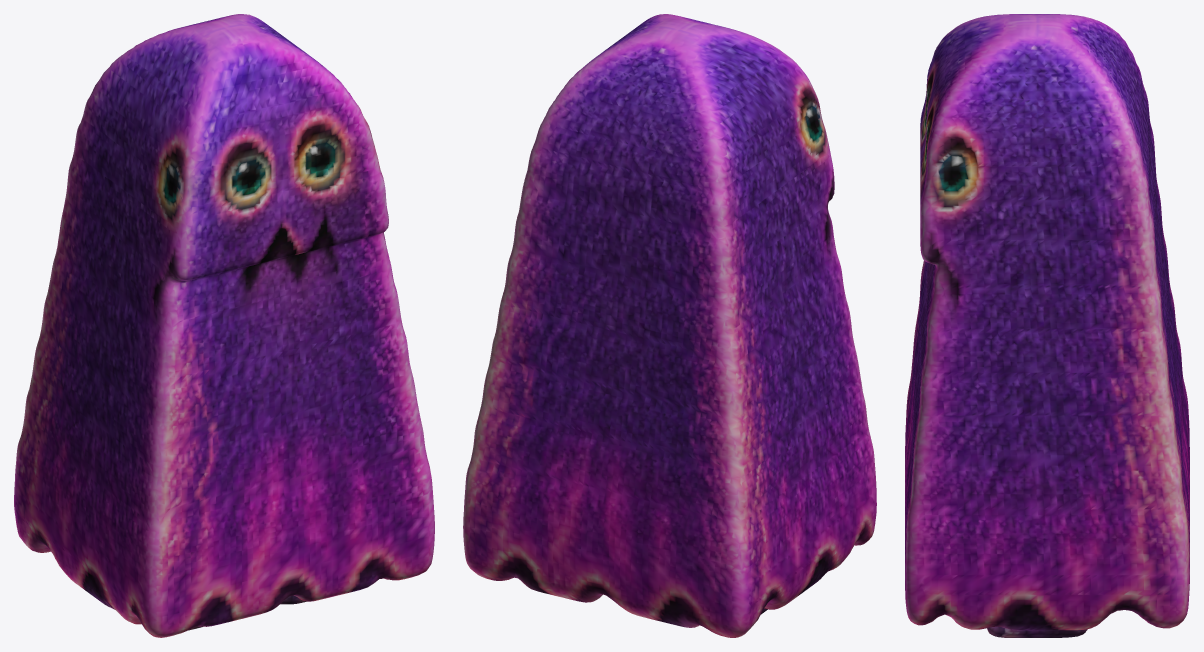
Rendered from 09-paarse-spook.glb.
The picture shows the model from 3 angles, left to right: view 1: azimuth 30°, elevation 25°; view 2: azimuth 150°, elevation 25°; view 3: azimuth 270°, elevation 25°; orthographic projection.
Parts seen in each view (by area): view 1: 09-paarse-spook-voorkant-zijkant-achterkant; view 2: 09-paarse-spook-voorkant-zijkant-achterkant; view 3: 09-paarse-spook-voorkant-zijkant-achterkant.
Boxes of the visible parts, x1,y1,x2,y2 form: 09-paarse-spook-voorkant-zijkant-achterkant: (14,14,434,637); 09-paarse-spook-voorkant-zijkant-achterkant: (463,14,876,637); 09-paarse-spook-voorkant-zijkant-achterkant: (905,14,1189,637).
Size of the model in its own units: 1.27 by 2.41 by 1.08.
